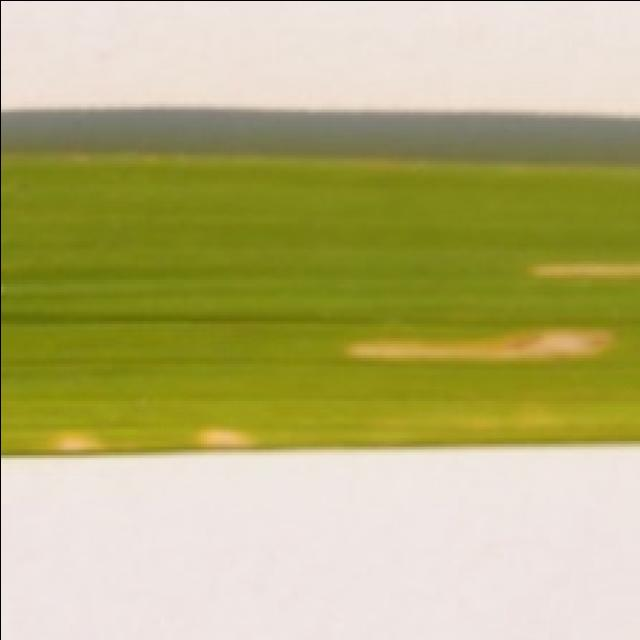Unhealthy: (343, 326, 612, 360), (531, 260, 640, 279), (193, 425, 260, 448), (52, 431, 107, 451)
